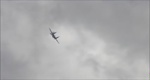maybay_muctieu: (49, 27, 60, 43)
